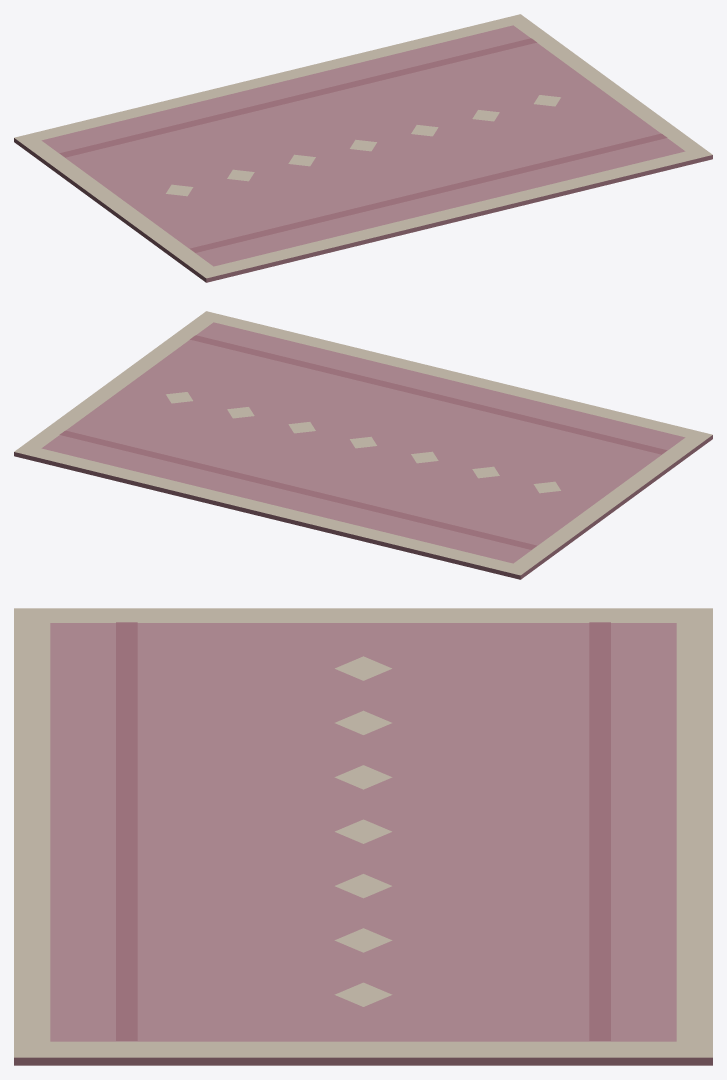
File: living_rug.fbx
The picture shows the model from 3 angles, top to bottom: view 1: azimuth 30°, elevation 25°; view 2: azimuth 150°, elevation 25°; view 3: azimuth 270°, elevation 25°; orthographic projection. The views are drawn at different scales.
Parts seen in each view (by area): view 1: living_rug; view 2: living_rug; view 3: living_rug.
Boxes of the visible parts, x1,y1,x2,y2 form: living_rug: (14, 14, 712, 282); living_rug: (14, 311, 712, 579); living_rug: (14, 608, 712, 1065).
Size of the model in its own units: 1.46 by 0.014 by 0.96.
